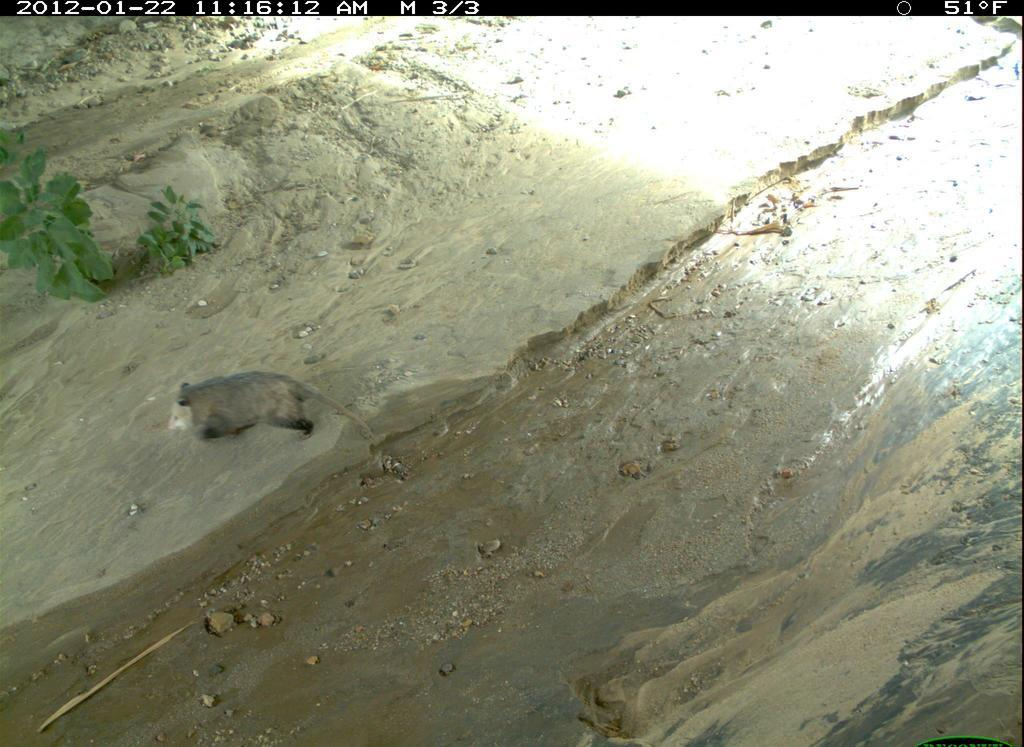opossum: (329, 733, 766, 747)
